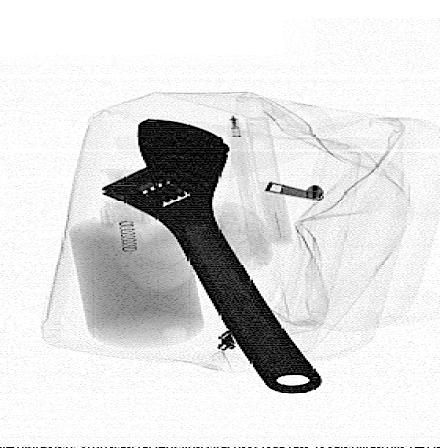Wrench: (98, 116, 320, 396)
